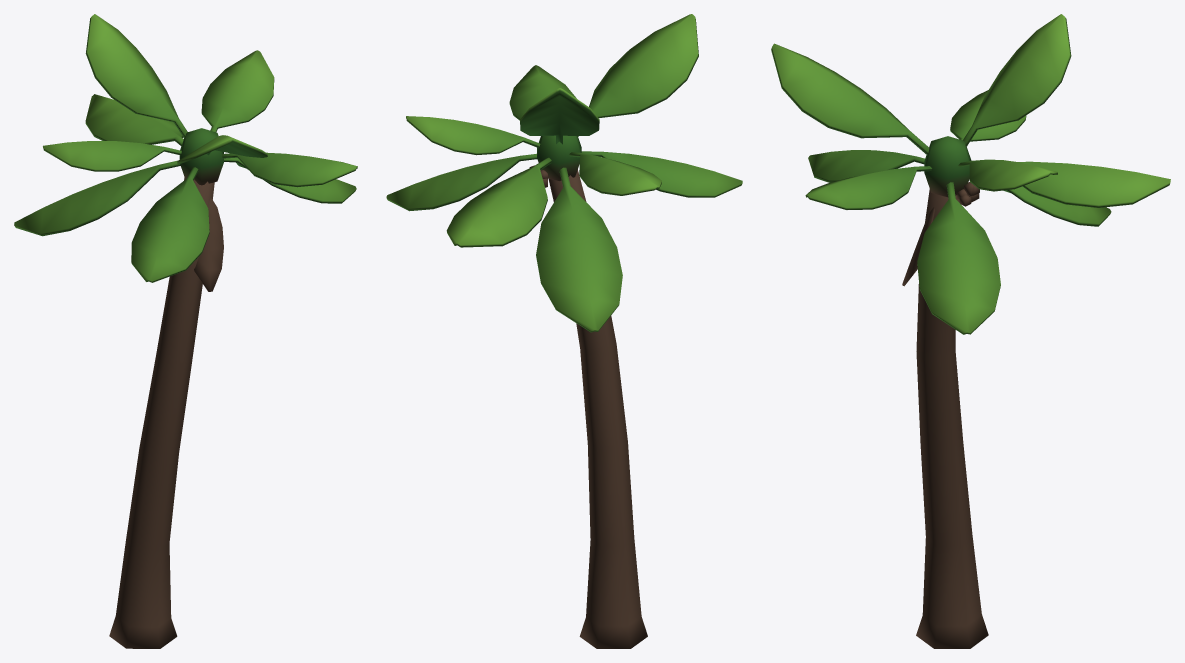
The model's file is fanpalm.lod1.glb.
3 views of the same model, side by side, from view 1: azimuth 30°, elevation 25°; view 2: azimuth 150°, elevation 25°; view 3: azimuth 270°, elevation 25° (orthographic). The views are drawn at different scales.
Visible parts, largest first — view 1: fanpalm_s1_lod1; view 2: fanpalm_s1_lod1; view 3: fanpalm_s1_lod1.
Part boxes in pixels (x1=…): fanpalm_s1_lod1: x1=14, y1=14, x2=357, y2=648; fanpalm_s1_lod1: x1=386, y1=14, x2=742, y2=648; fanpalm_s1_lod1: x1=771, y1=14, x2=1170, y2=648.
Size of the model in its own units: 5.11 by 9.78 by 5.69.
